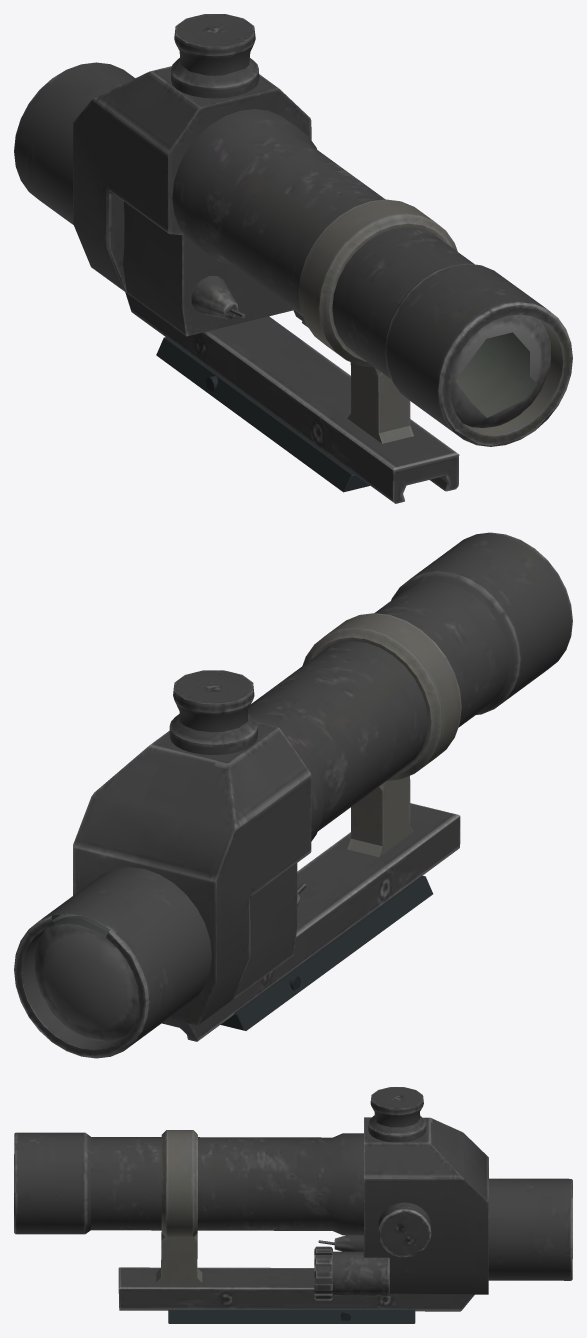
The picture shows the model from 3 angles, top to bottom: view 1: azimuth 30°, elevation 25°; view 2: azimuth 150°, elevation 25°; view 3: azimuth 270°, elevation 25°; orthographic projection. The views are drawn at different scales.
Parts seen in each view (by area): view 1: Scope_SCOPE_0, 일체형_장착대; view 2: Scope_SCOPE_0, 일체형_장착대; view 3: Scope_SCOPE_0, 일체형_장착대.
Boxes of the visible parts, x1,y1,x2,y2 form: Scope_SCOPE_0: (14,14,572,503); 일체형_장착대: (156,336,369,492); Scope_SCOPE_0: (14,532,572,1058); 일체형_장착대: (220,875,433,1030); Scope_SCOPE_0: (14,1087,572,1311); 일체형_장착대: (168,1309,415,1323).
Bounding box in the file's own units: 0.0565 × 0.1029 × 0.246.
Materials: 3 (1 with a texture image).
